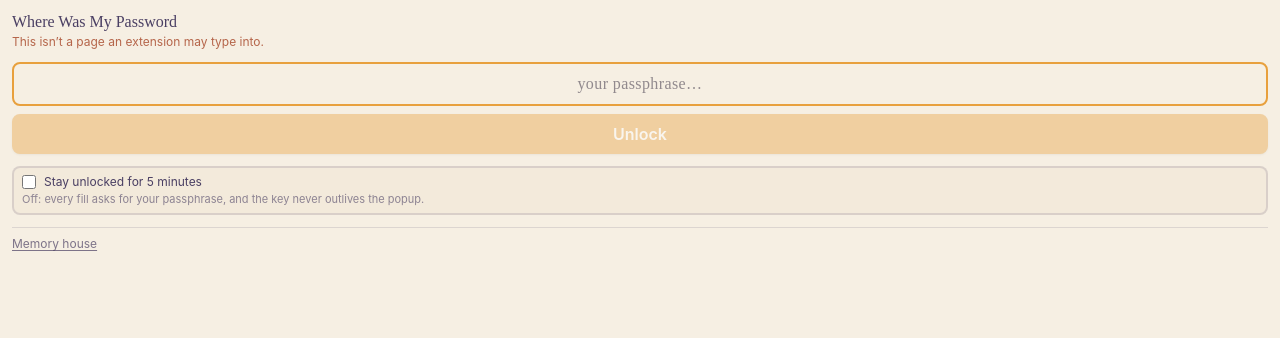
the page the popup is pointed at › says the window is not fillable when the page is not one an extension may type into
This screenshot has width=1280, height=338.
Step 1. Type "mailbox doormat closet fireplace oven fridge" into the password field with placeholder "your passphrase…" → (640, 84), box 12,62 -> 1268,106
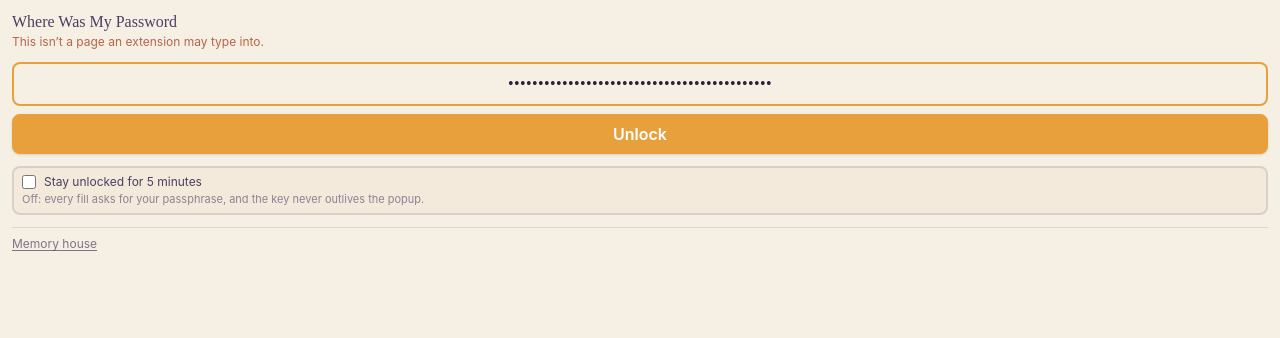
Step 2. Click the button "Unlock" → (640, 134), box 12,114 -> 1268,154
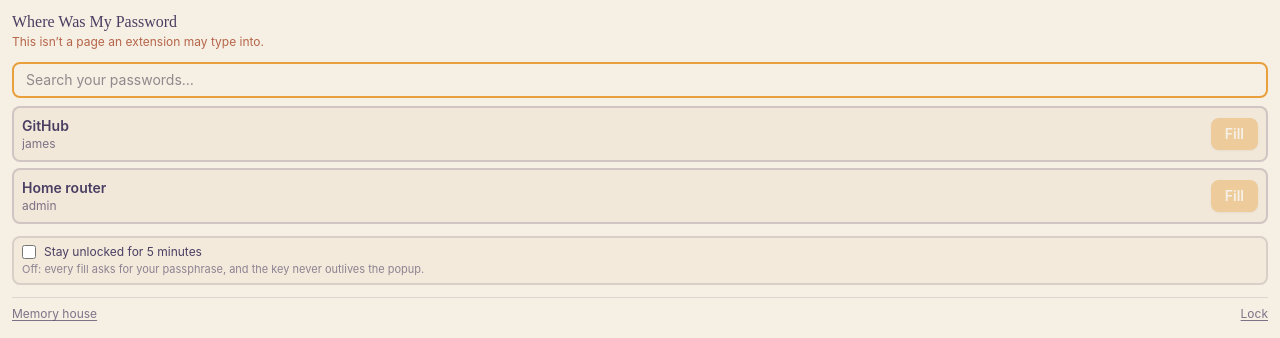
Expected: the text "This isn’t a page an extension may type into." is shown, 12,34 -> 264,49
Expected: the search field with placeholder "Search your passwords…" is shown, 12,62 -> 1268,98
Expected: the button "Fill" in the row of "Home router" is disabled, 1211,180 -> 1258,212
